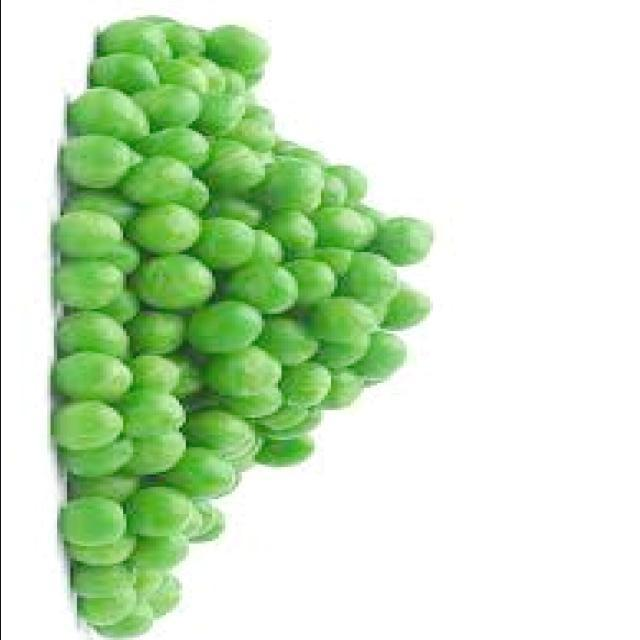Garden Peas: (53, 22, 490, 640)
